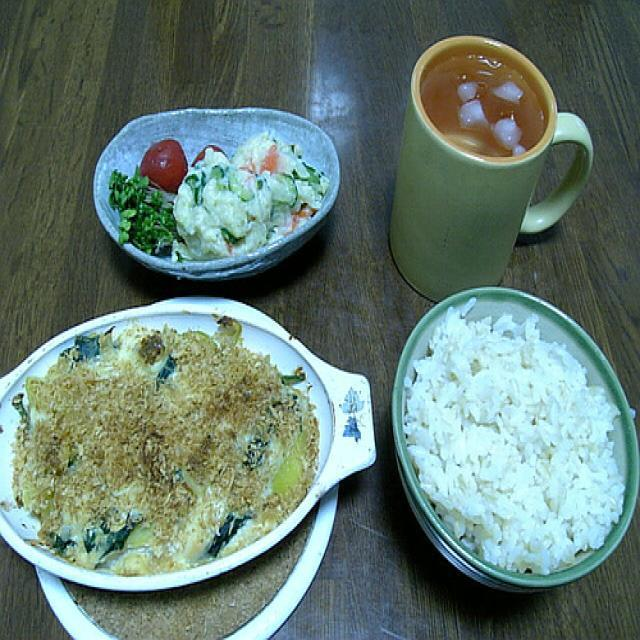Rice: (408, 317, 618, 559)
